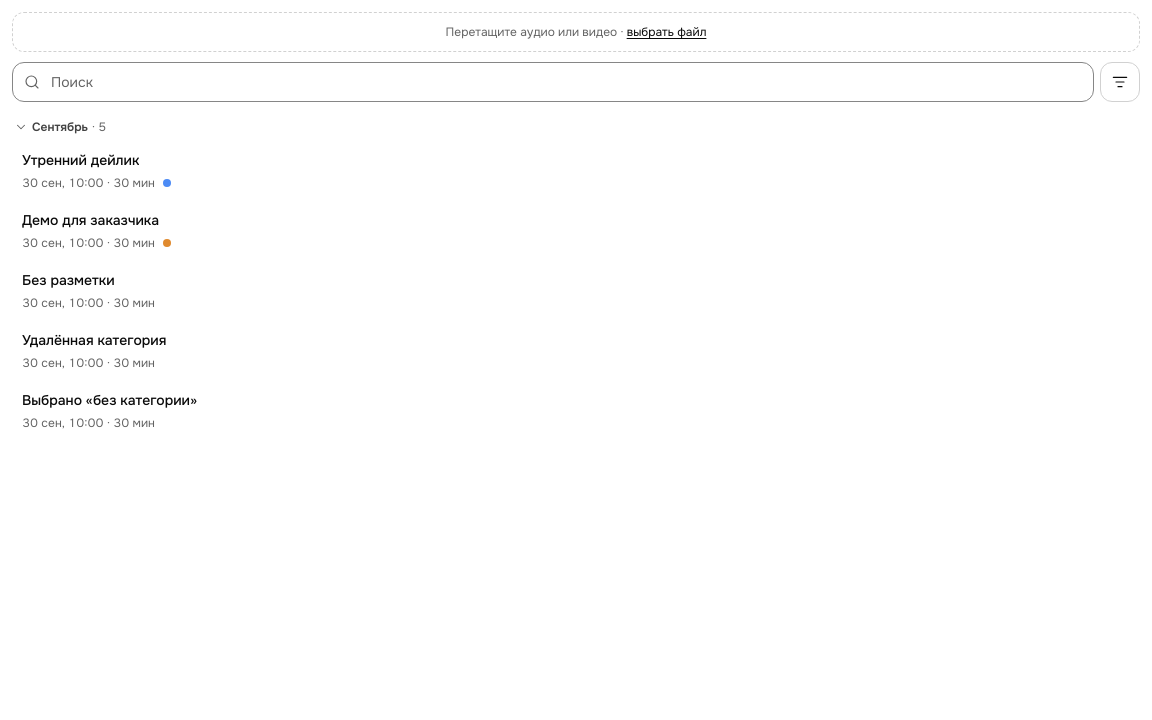
Test case: повторный щелчок по кнопке «Фильтры» закрывает окно
Click the button named "Фильтры": (1120, 82) [1100,62,1140,102]
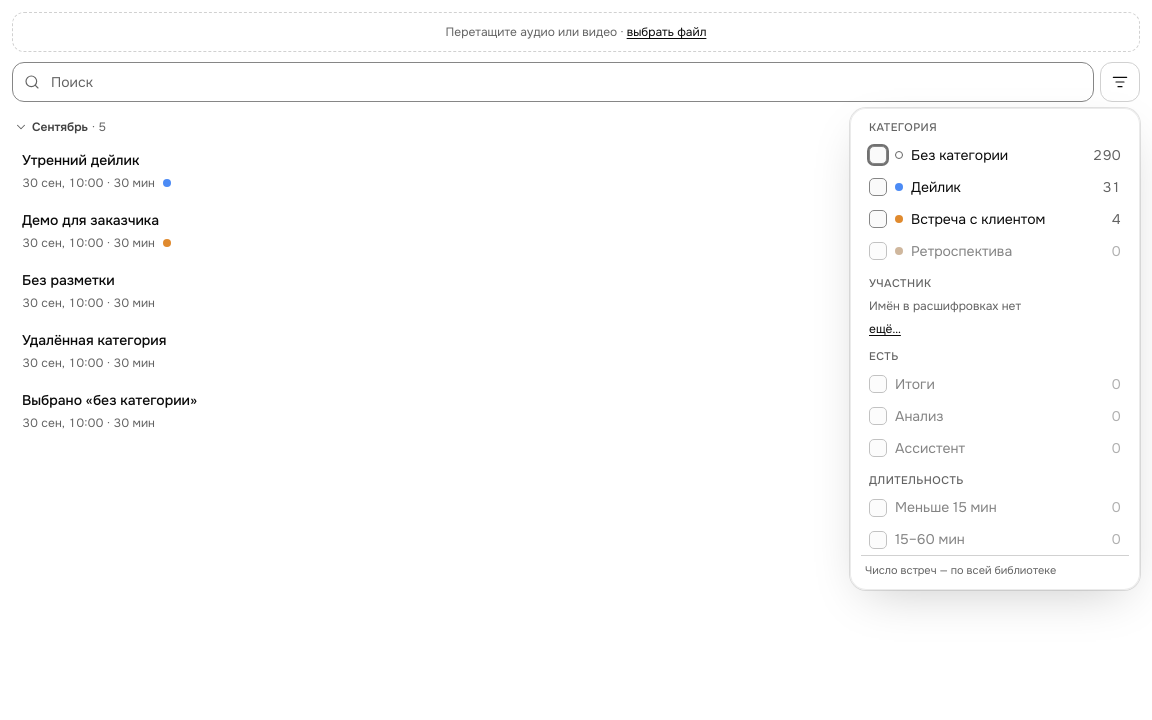
Expected: the dialog is shown, [850,108,1140,590]
Click the button named "Фильтры": (1120, 82) [1100,62,1140,102]
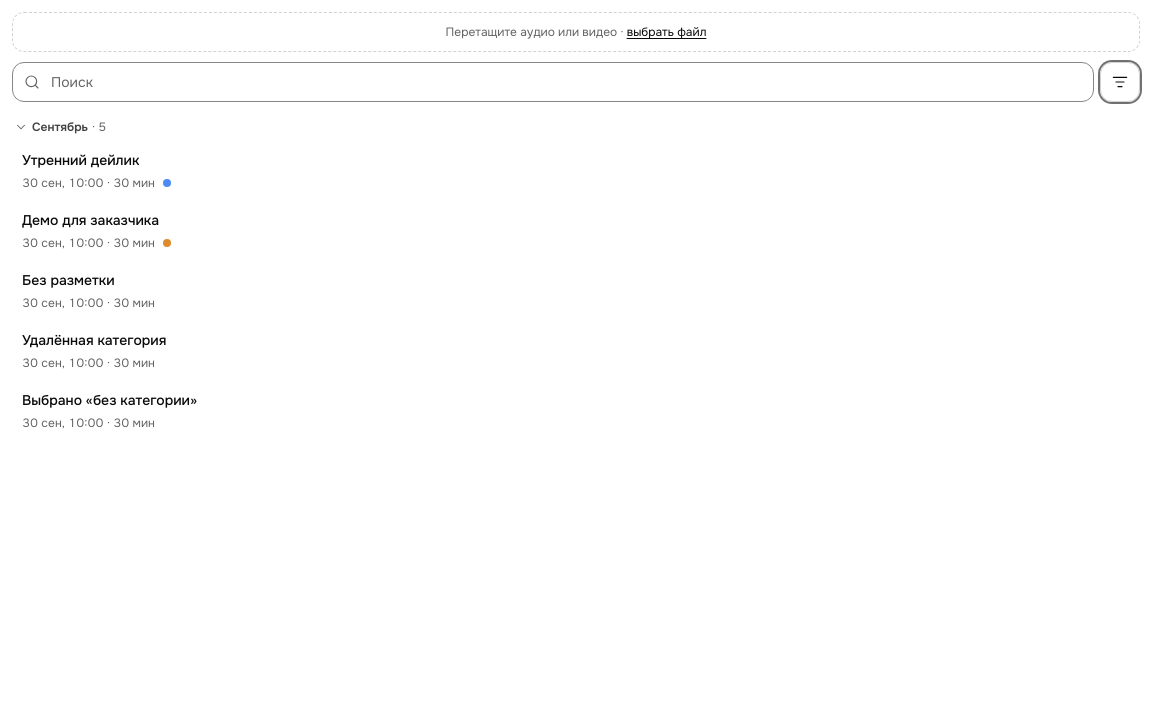
Expected: the dialog is gone
